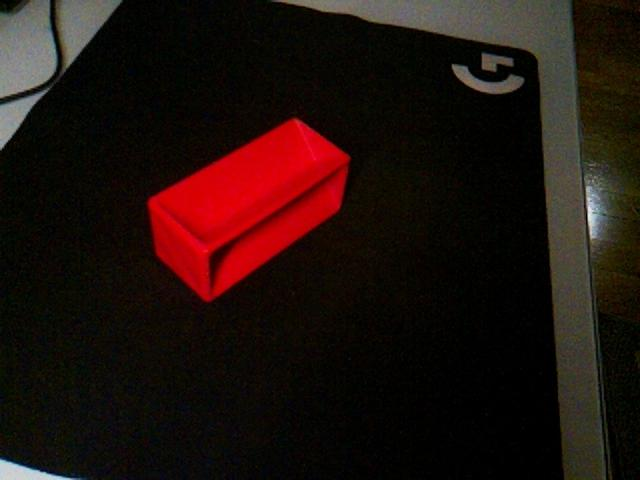red: (146, 115, 352, 303)
